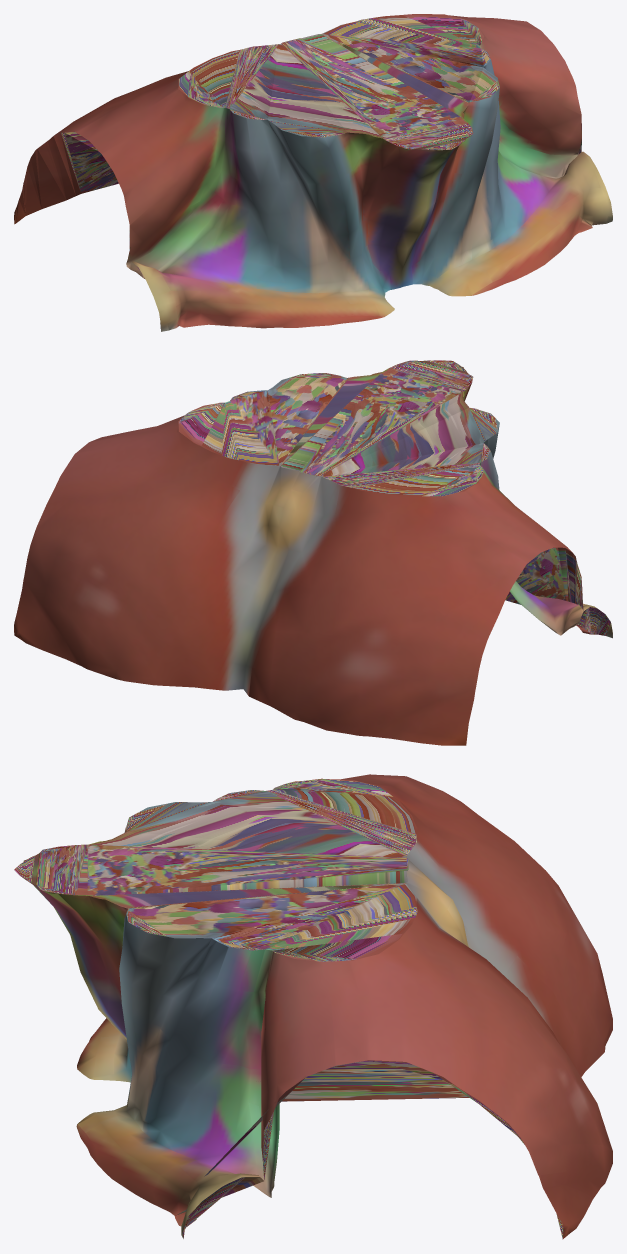
File: derived-anatomy-neck.glb
3 renders of one model, top to bottom at view 1: azimuth 30°, elevation 25°; view 2: azimuth 150°, elevation 25°; view 3: azimuth 270°, elevation 25°, orthographic. The views are drawn at different scales.
Visible parts, largest first — view 1: derived-anatomy-neck; view 2: derived-anatomy-neck; view 3: derived-anatomy-neck.
Part boxes in pixels (<box>): derived-anatomy-neck: <box>14,14,612,331</box>; derived-anatomy-neck: <box>14,360,612,745</box>; derived-anatomy-neck: <box>14,774,612,1239</box>.
Bounding box in the file's own units: 0.23 × 0.085 × 0.2038.
1 material, 1 textured.
